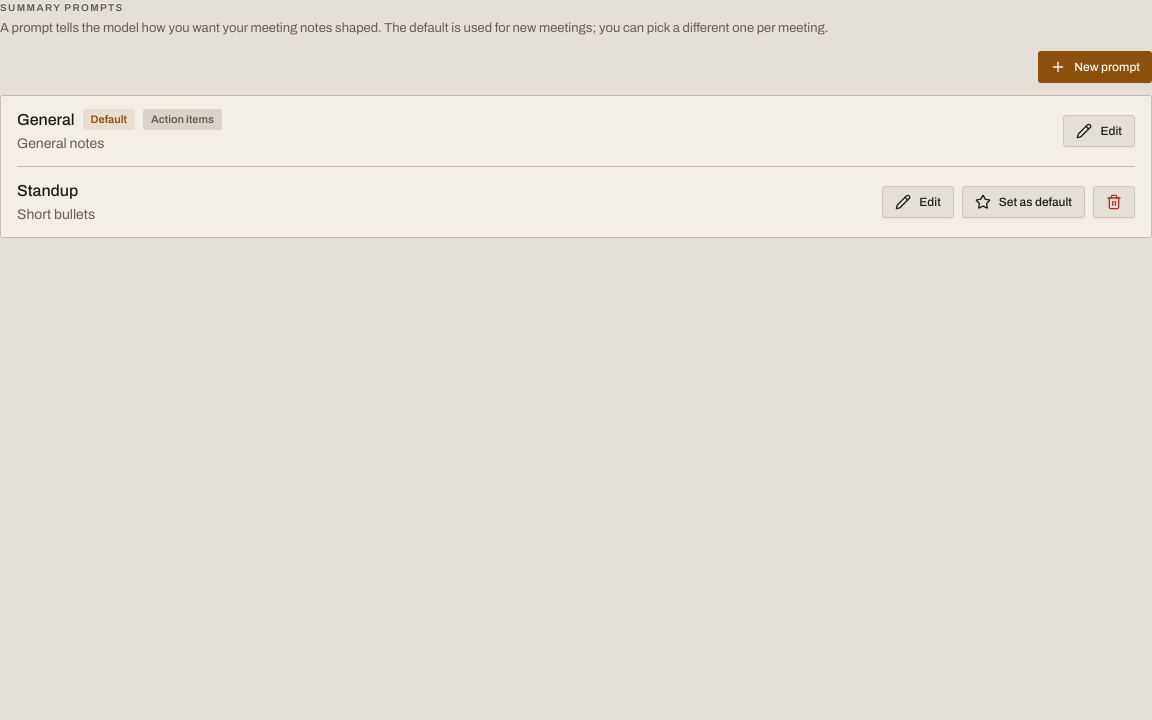
Test: SummaryPromptSettings (specs/0079 W4) › delete flow: confirm then delete then refresh
Expected: the text "Standup" is shown, [17,178,78,202]
Click the button named "delete standup" at point(1114, 202), box [1093,186,1135,218]
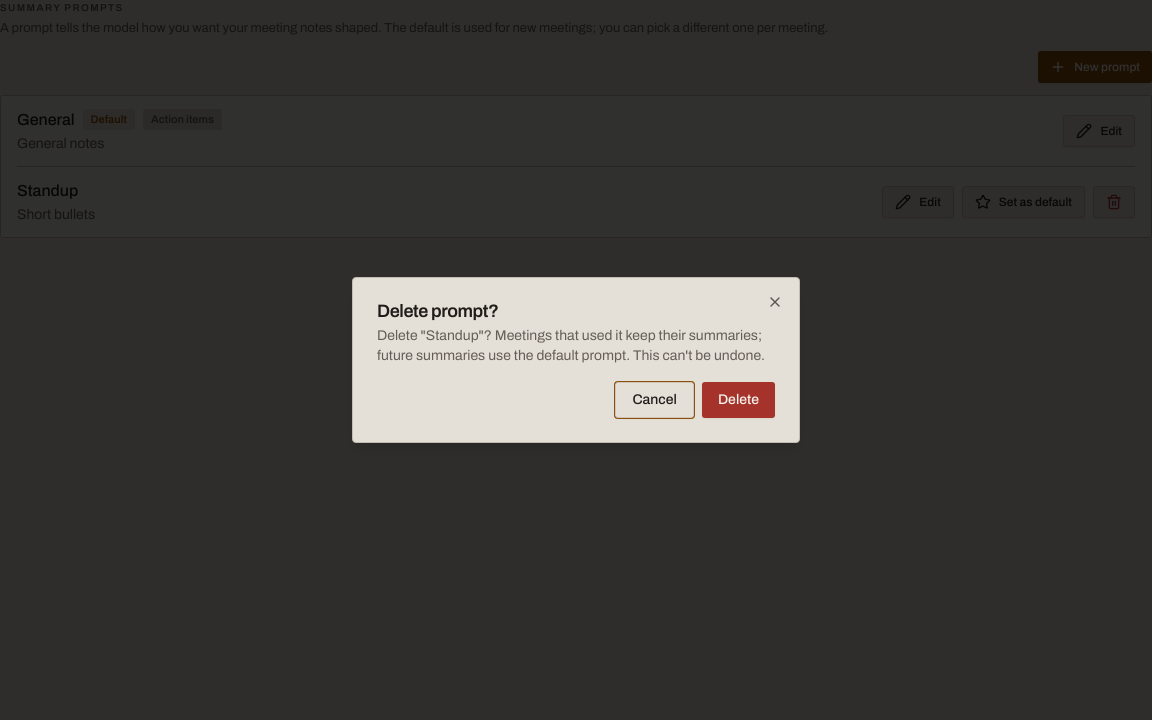
Click the button "Delete" at point(738, 400), box [702,382,775,418]
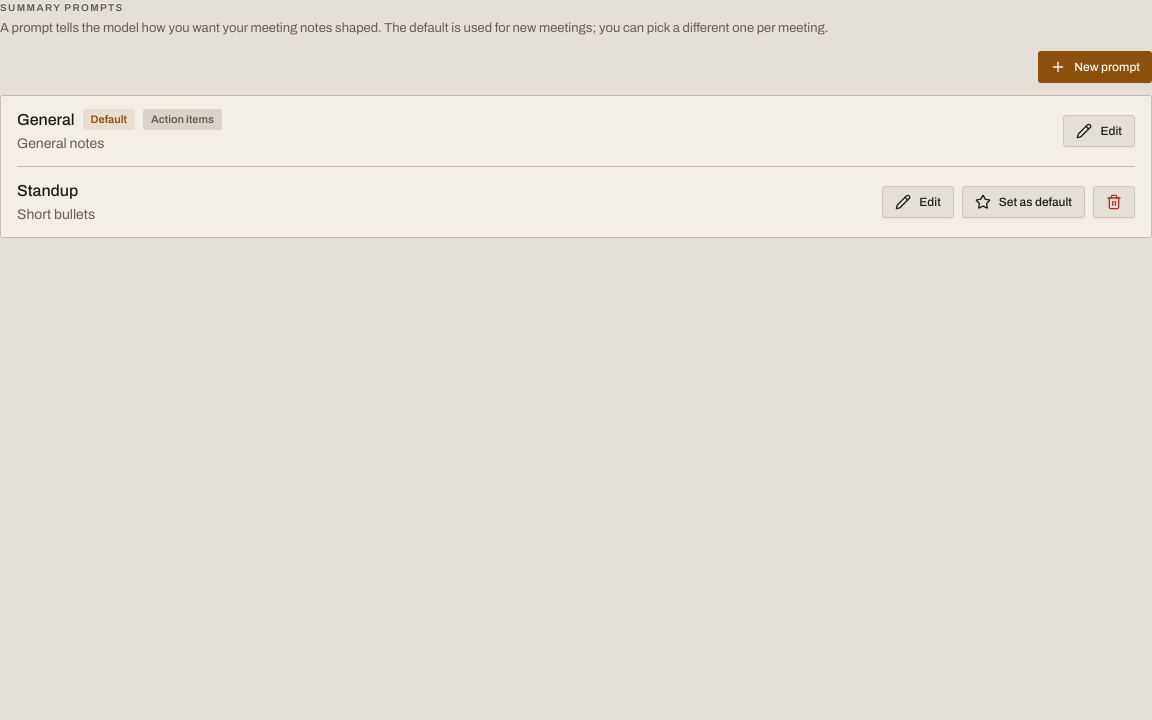
Expected: the dialog is gone
